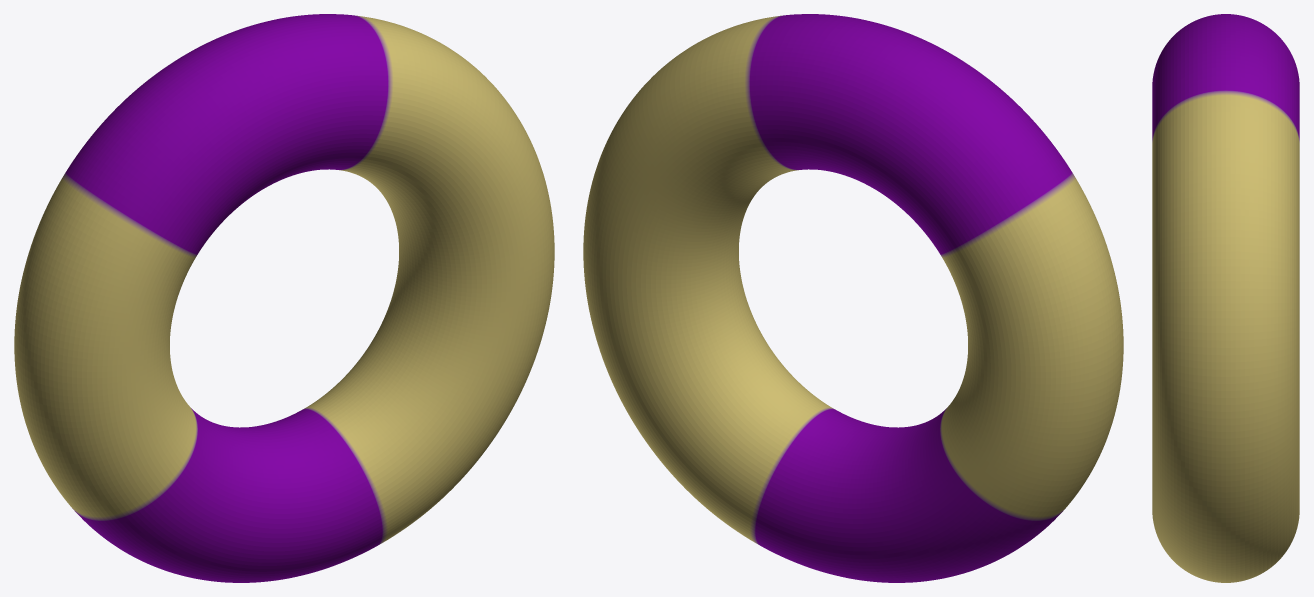
The model's file is shadow_light_resonance_torus_banded_gold.glb.
The picture shows the model from 3 angles, left to right: view 1: azimuth 30°, elevation 25°; view 2: azimuth 150°, elevation 25°; view 3: azimuth 270°, elevation 25°; orthographic projection. The views are drawn at different scales.
Parts seen in each view (by area): view 1: world; view 2: world; view 3: world.
Boxes of the visible parts, bbox=[...] form: world: bbox=[14, 14, 554, 582]; world: bbox=[583, 14, 1123, 582]; world: bbox=[1152, 14, 1299, 582].
Size of the model in its own units: 2.7 by 2.7 by 0.7.
